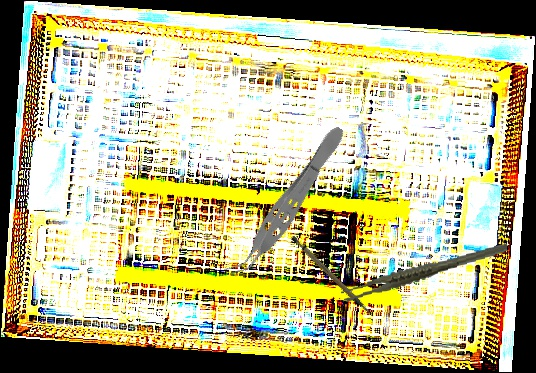Scalpel Handle: (289, 226, 373, 327)
Tissue Forceps: (223, 119, 353, 287), (337, 242, 511, 303)
